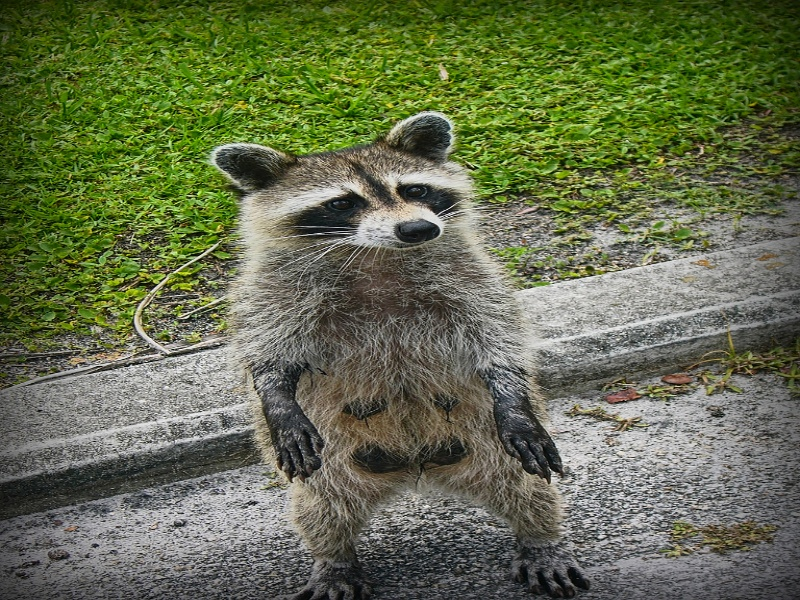raccoon: (202, 114, 611, 599)
